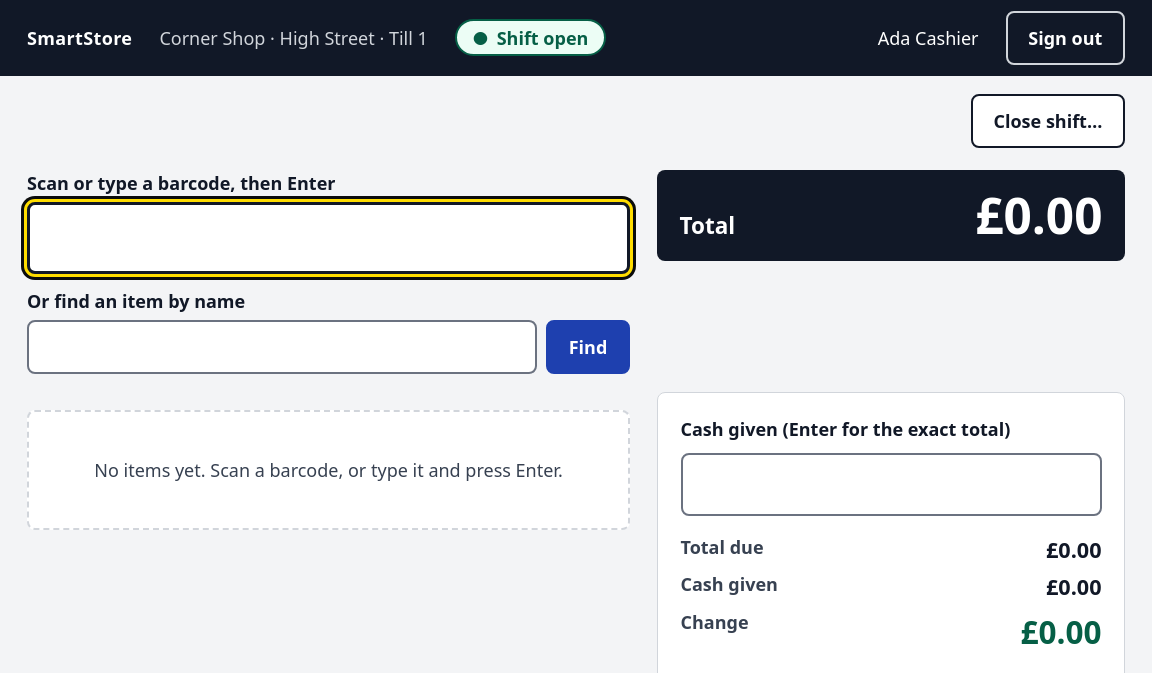
Scenario: the till shell (UX-35, UX-52, UX-07, UX-08) › UX-02, UX-57: closing the shift asks above the sale, and "Keep selling" returns to the cart exactly as it was
This screenshot has width=1152, height=673.
Step 1. Type "012345678905" into the field labelled "Scan or type a barcode, then Enter" → (328, 238), box [27,202,630,274]
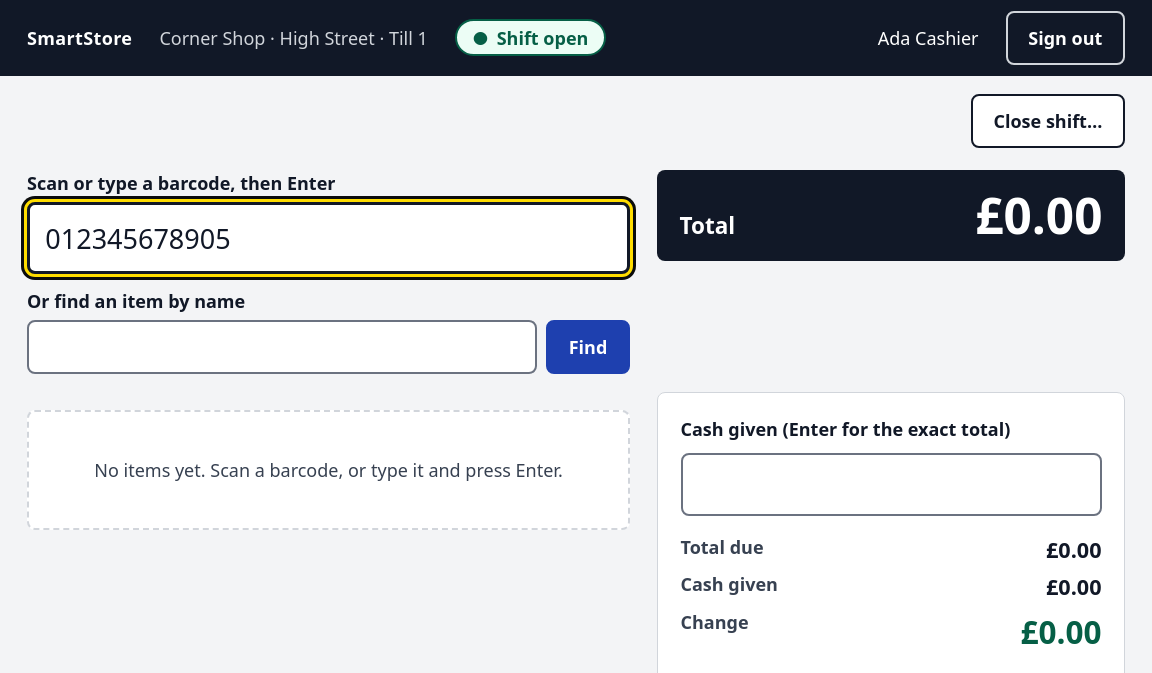
Step 2. Submit the form labelled "Scan or type a barcode, then Enter", box [27,170,630,274]
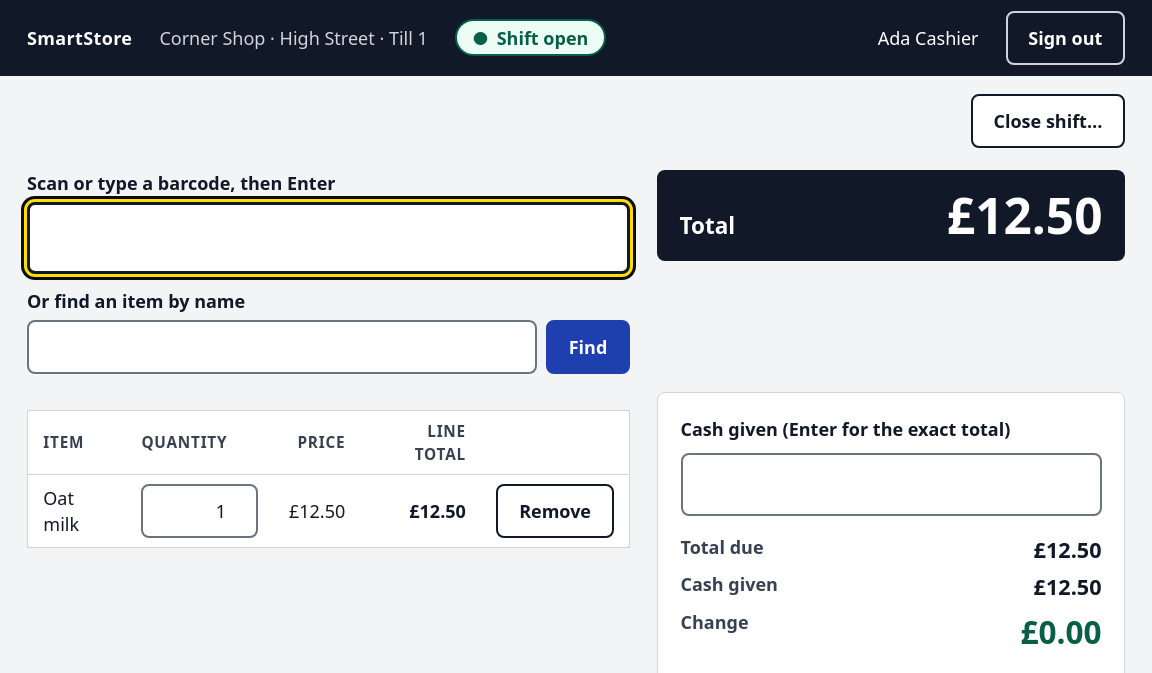
Expected: the number of rows with test id "cart-line" is 1, [28,474,630,547]
Step 3. Click the button "Close shift…" → (1048, 121), box [971,94,1125,148]
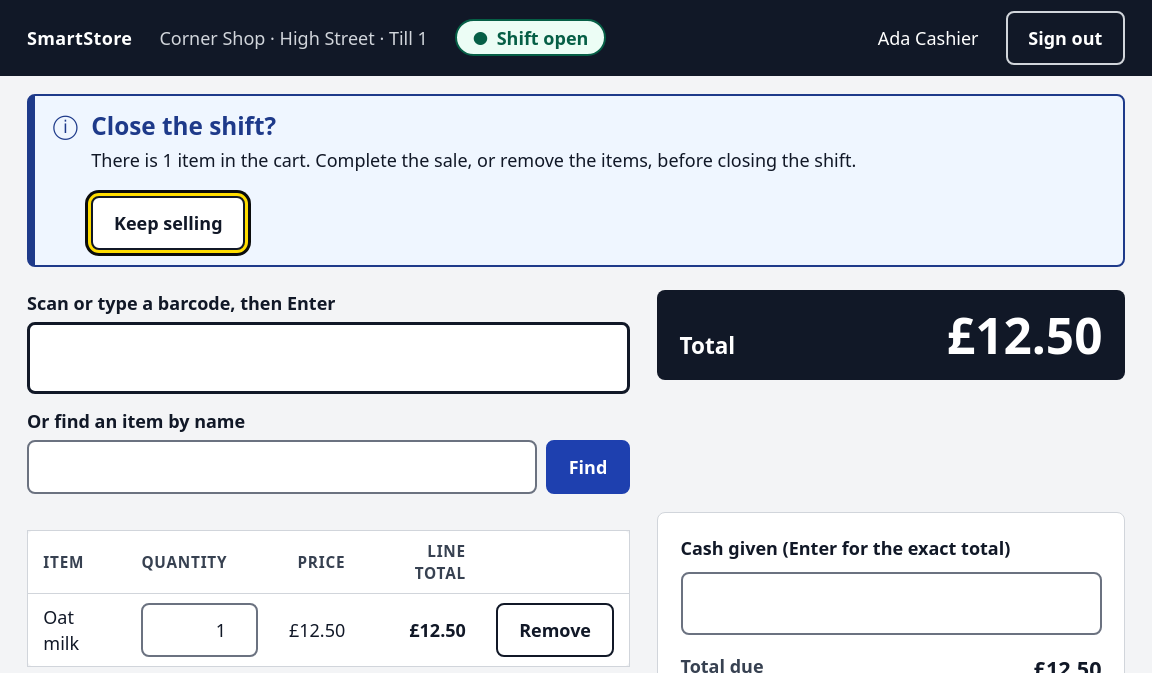
Expected: the number of rows with test id "cart-line" is 1, [28,594,630,667]
Expected: the heading "Close the shift?" is shown, [91,109,276,142]
Step 4. Click the button "Keep selling" → (168, 223), box [91,196,245,250]
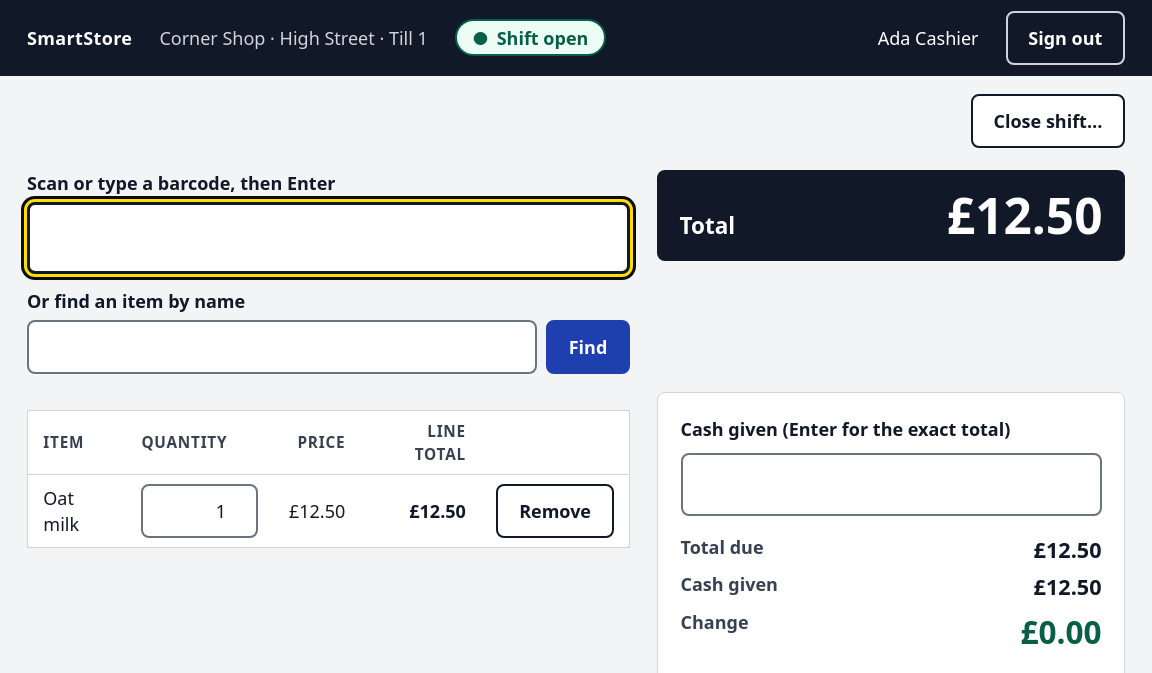
Expected: the number of rows with test id "cart-line" is 1, [28,474,630,547]
Expected: the heading "Close the shift?" is gone
